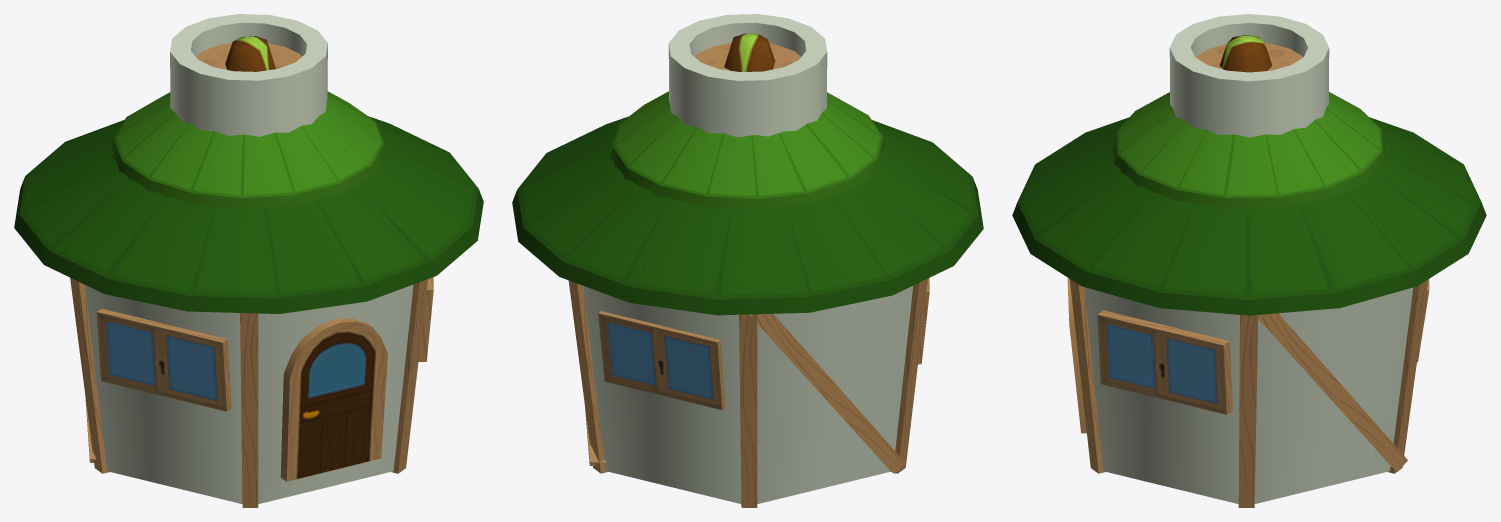
The model's file is building_Herbal_lv1.FBX.
The picture shows the model from 3 angles, left to right: view 1: azimuth 30°, elevation 25°; view 2: azimuth 150°, elevation 25°; view 3: azimuth 270°, elevation 25°; orthographic projection.
Visible parts, largest first — view 1: building_Herbal_roof_lv1, building_Herbal_main_lv1, building_Herbal_lv1, building_Herbal_plant_lv1; view 2: building_Herbal_roof_lv1, building_Herbal_main_lv1, building_Herbal_lv1, building_Herbal_plant_lv1; view 3: building_Herbal_roof_lv1, building_Herbal_main_lv1, building_Herbal_lv1, building_Herbal_plant_lv1.
Boxes of the visible parts, left/top/right/bottom form: building_Herbal_roof_lv1: left=14, top=91, right=483, bottom=313; building_Herbal_main_lv1: left=85, top=14, right=413, bottom=503; building_Herbal_lv1: left=70, top=277, right=433, bottom=507; building_Herbal_plant_lv1: left=225, top=36, right=275, bottom=71; building_Herbal_roof_lv1: left=512, top=91, right=983, bottom=315; building_Herbal_main_lv1: left=583, top=14, right=913, bottom=503; building_Herbal_lv1: left=568, top=278, right=929, bottom=507; building_Herbal_plant_lv1: left=724, top=33, right=775, bottom=71; building_Herbal_roof_lv1: left=1012, top=92, right=1486, bottom=315; building_Herbal_main_lv1: left=1084, top=14, right=1413, bottom=503; building_Herbal_lv1: left=1067, top=278, right=1429, bottom=507; building_Herbal_plant_lv1: left=1219, top=35, right=1272, bottom=72.
Bounding box in the file's own units: 315 × 291 × 315.
